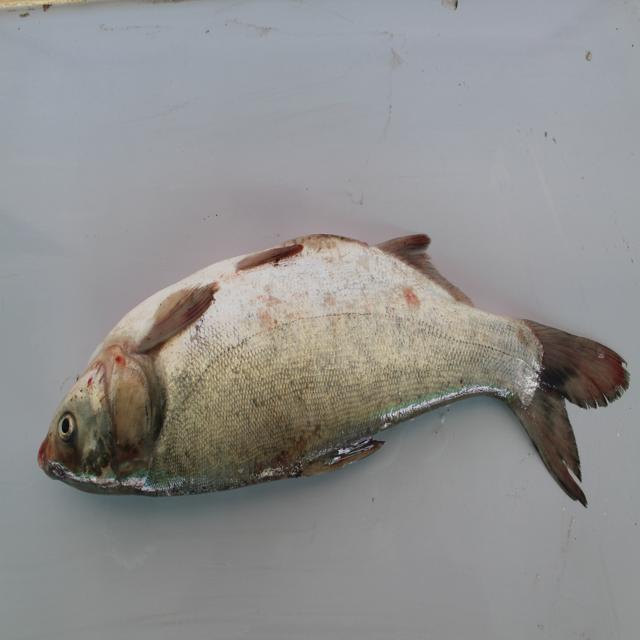SilverCarp: (37, 222, 616, 521)
